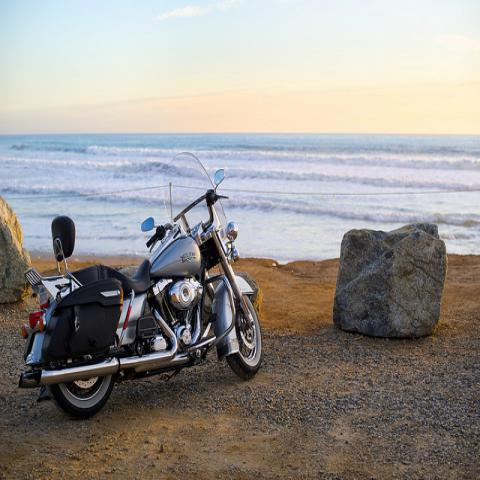motorcycle: (18, 151, 264, 421)
